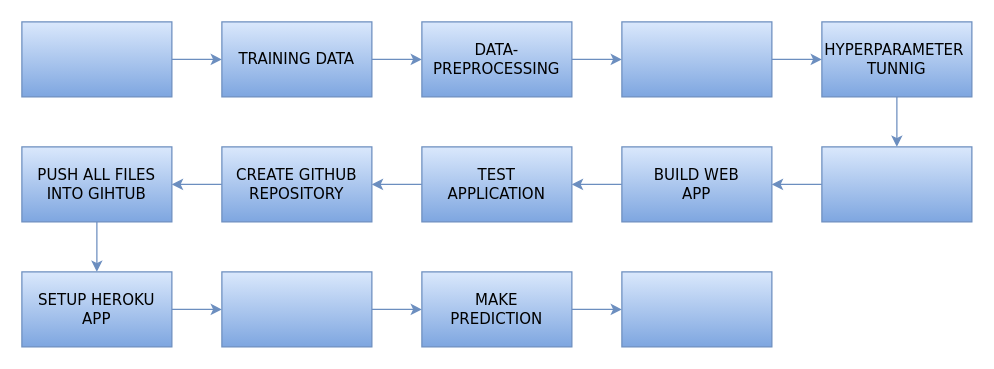
Some shapes in this 994 by 369 pixel diagram are drawn without their labels. The box of each missing label's shape, as (x1, y1, x2, y2) in pixels:
CREATE CI/CD WORKFLOW: (221, 271, 372, 347)
END: (621, 271, 772, 347)
MODEL FINDING: (621, 21, 772, 97)
MODEL SAVING: (821, 146, 972, 222)
START: (21, 21, 172, 97)
